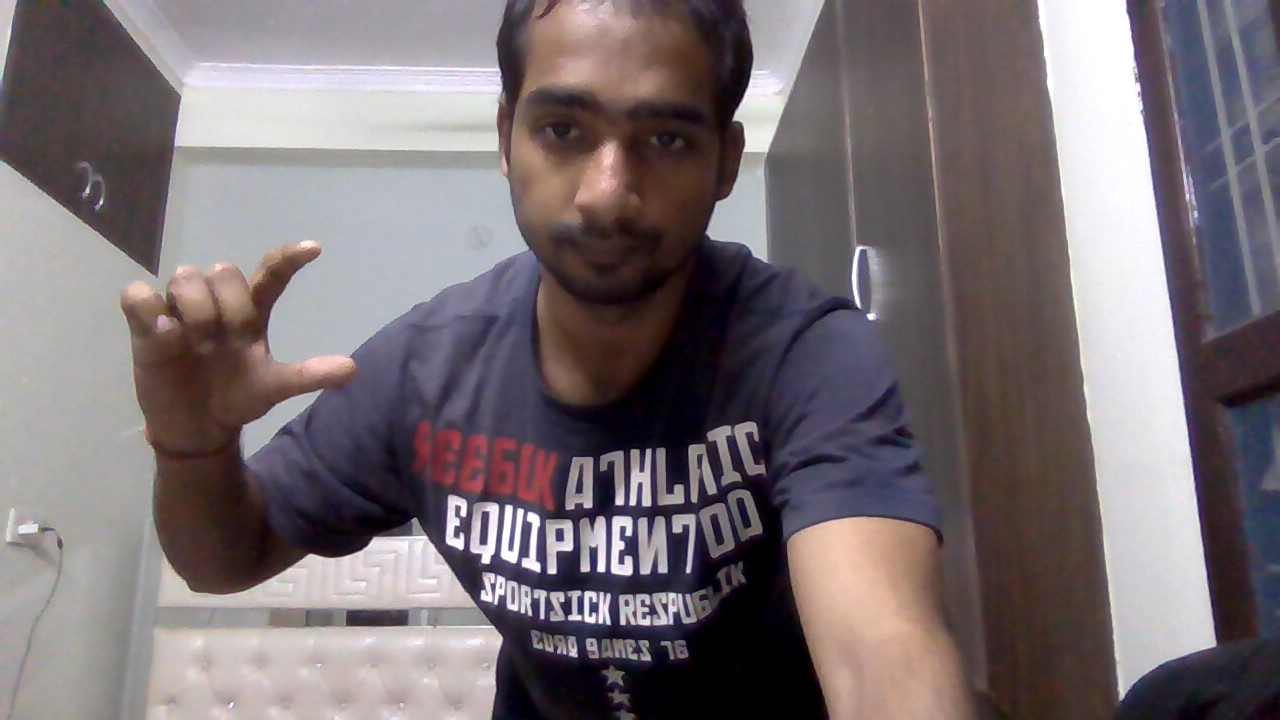Paste: (108, 227, 370, 475)
